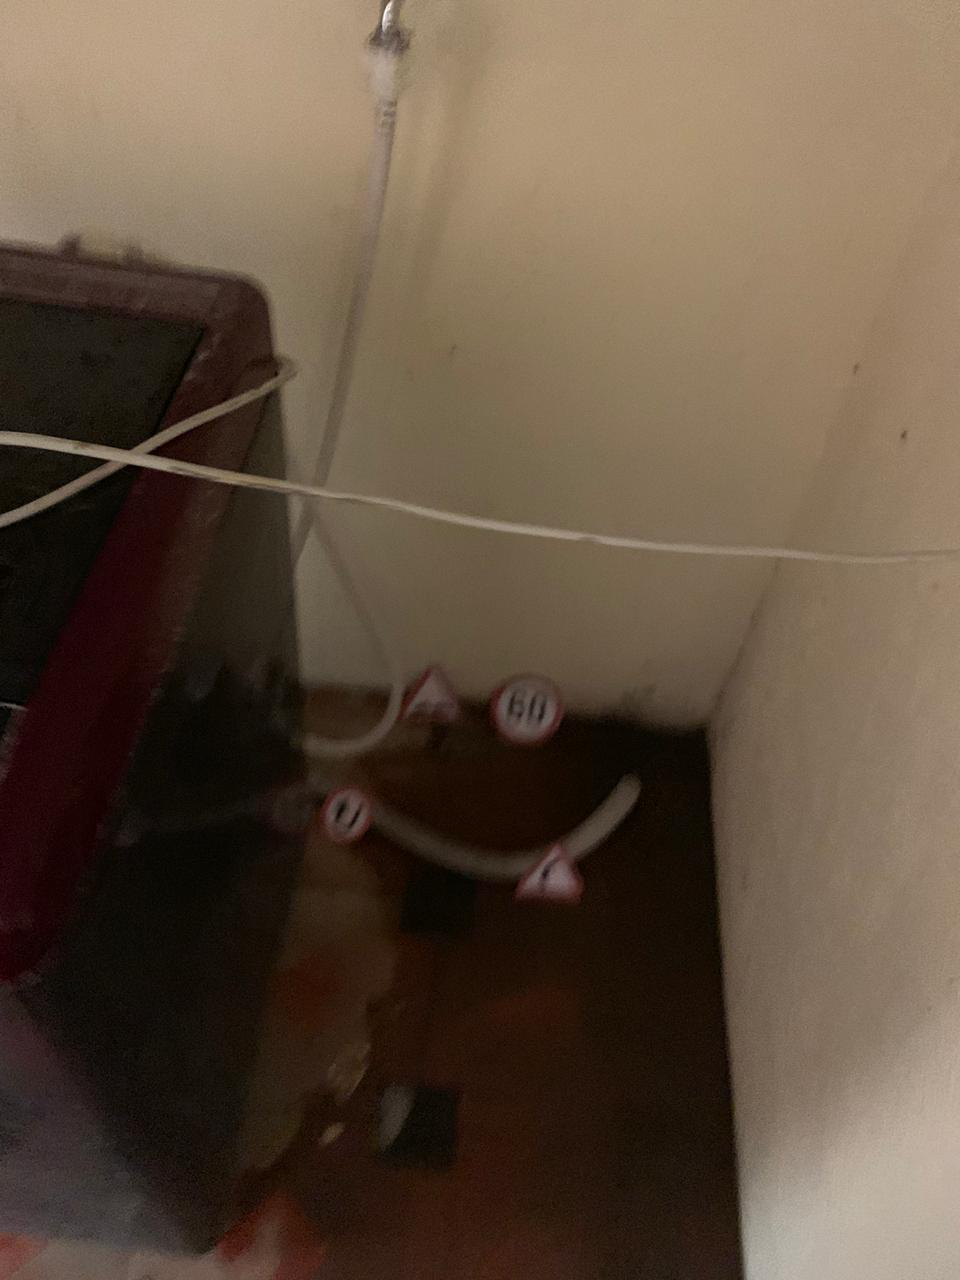U: (326, 788, 384, 844)
UNEVEN ROAD: (488, 675, 580, 767), (515, 841, 595, 907), (402, 665, 468, 725)
